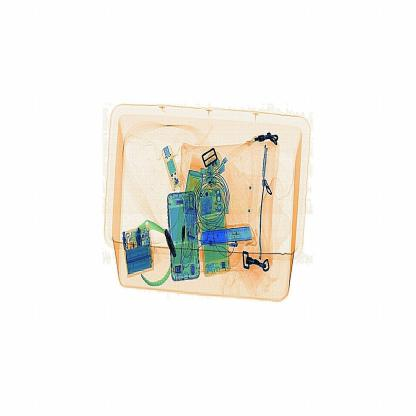pliers: (198, 228, 262, 249)
